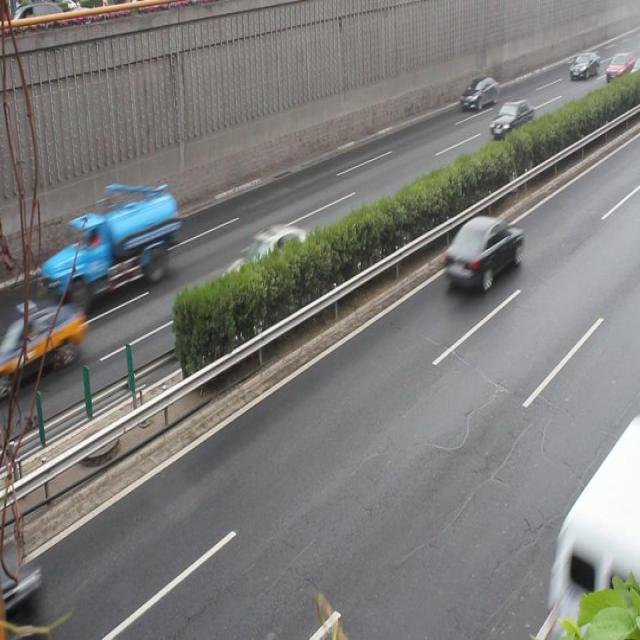bus: (47, 191, 175, 297)
car: (218, 222, 312, 299), (0, 304, 86, 381), (441, 217, 519, 291), (1, 532, 39, 610), (489, 99, 534, 143), (459, 73, 498, 114)
